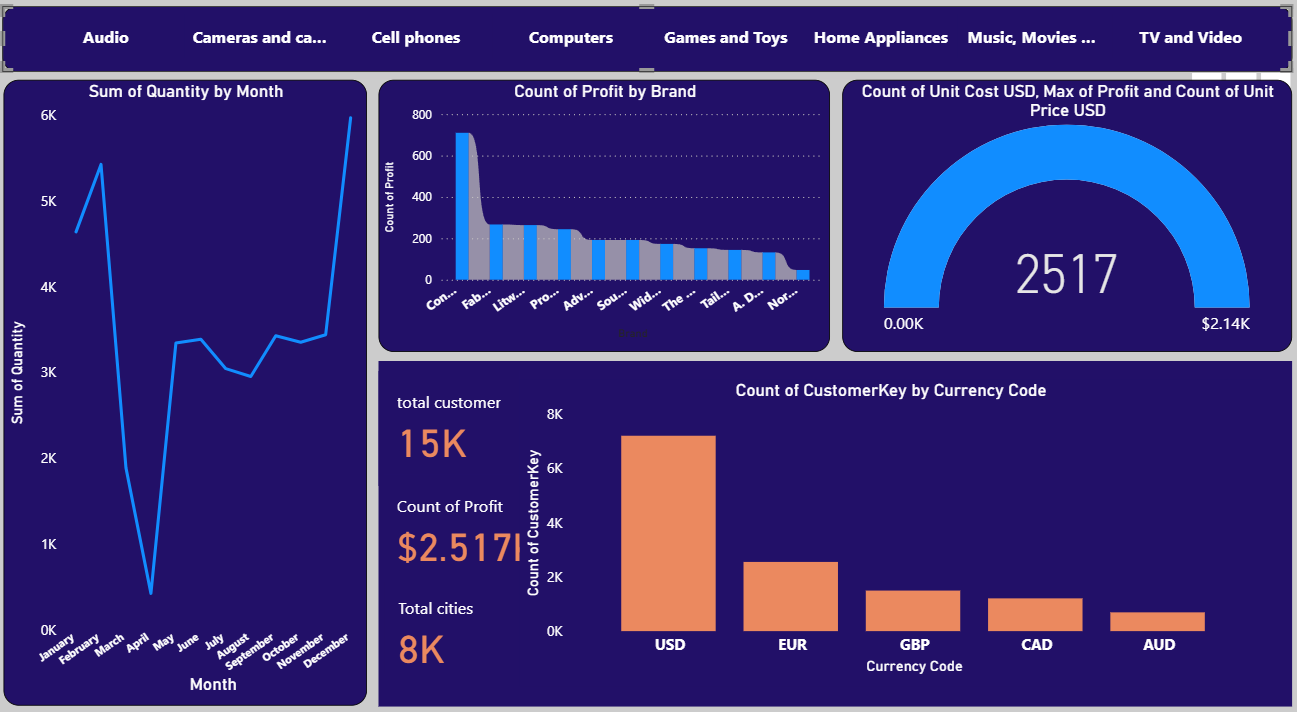

The page's visual inventory and layout, read from the dashboard file:
{"tool":"powerbi","page":{"name":"Page 1","canvas":[1280,720],"ordinal":0},"visuals":[{"type":"cardVisual","fields":{"Data":["CountNonNull(Products.Profit)"]},"box":[375.3,368.1,896.9,339.4],"z":0},{"type":"slicer","fields":{"Values":["Products.Category"]},"box":[5.8,19.5,1266.4,65.2],"z":1000},{"type":"lineChart","fields":{"Y":["Sum(Sales.Quantity)"],"Category":["Sales.Order Date.Variation.Date Hierarchy.Month"]},"box":[7.8,92.4,357,614.7],"z":2000},{"type":"ribbonChart","fields":{"Y":["CountNonNull(Products.Profit)"],"Category":["Products.Brand"]},"box":[375.4,92.4,443.5,267.5],"z":3000},{"type":"gauge","fields":{"MaxValue":["Max(Products.Profit)"],"Y":["CountNonNull(Products.Unit Cost USD)"],"TargetValue":["CountNonNull(Products.Unit Price USD)"]},"box":[830.6,92.4,441.6,267.5],"z":4000},{"type":"cardVisual","fields":{"Data":["Customers.total customer"]},"box":[375.3,378,138.3,113.1],"z":5500},{"type":"clusteredColumnChart","fields":{"Category":["Sales.Currency Code"],"Y":["CountNonNull(Sales.CustomerKey)"]},"box":[513.5,386.9,729,300.7],"z":6001},{"type":"cardVisual","fields":{"Data":["Customers.Total cities"]},"box":[377.1,580.8,136.5,106.8],"z":6002}]}

Visuals, with their boxes in screenshot pixels (x1, y1, x2, y2), scaled from the page's 1280x720 canvas onto the 1297x712 screenshot:
cardVisual - CountNonNull(Products.Profit): crop(380, 364, 1289, 700)
slicer - Products.Category: crop(6, 19, 1289, 84)
lineChart - Sum(Sales.Quantity) x Sales.Order Date.Variation.Date Hierarchy.Month: crop(8, 91, 370, 699)
ribbonChart - CountNonNull(Products.Profit) x Products.Brand: crop(380, 91, 830, 356)
gauge - Max(Products.Profit) x CountNonNull(Products.Unit Cost USD): crop(842, 91, 1289, 356)
cardVisual - Customers.total customer: crop(380, 374, 520, 486)
clusteredColumnChart - Sales.Currency Code x CountNonNull(Sales.CustomerKey): crop(520, 383, 1259, 680)
cardVisual - Customers.Total cities: crop(382, 574, 520, 680)
